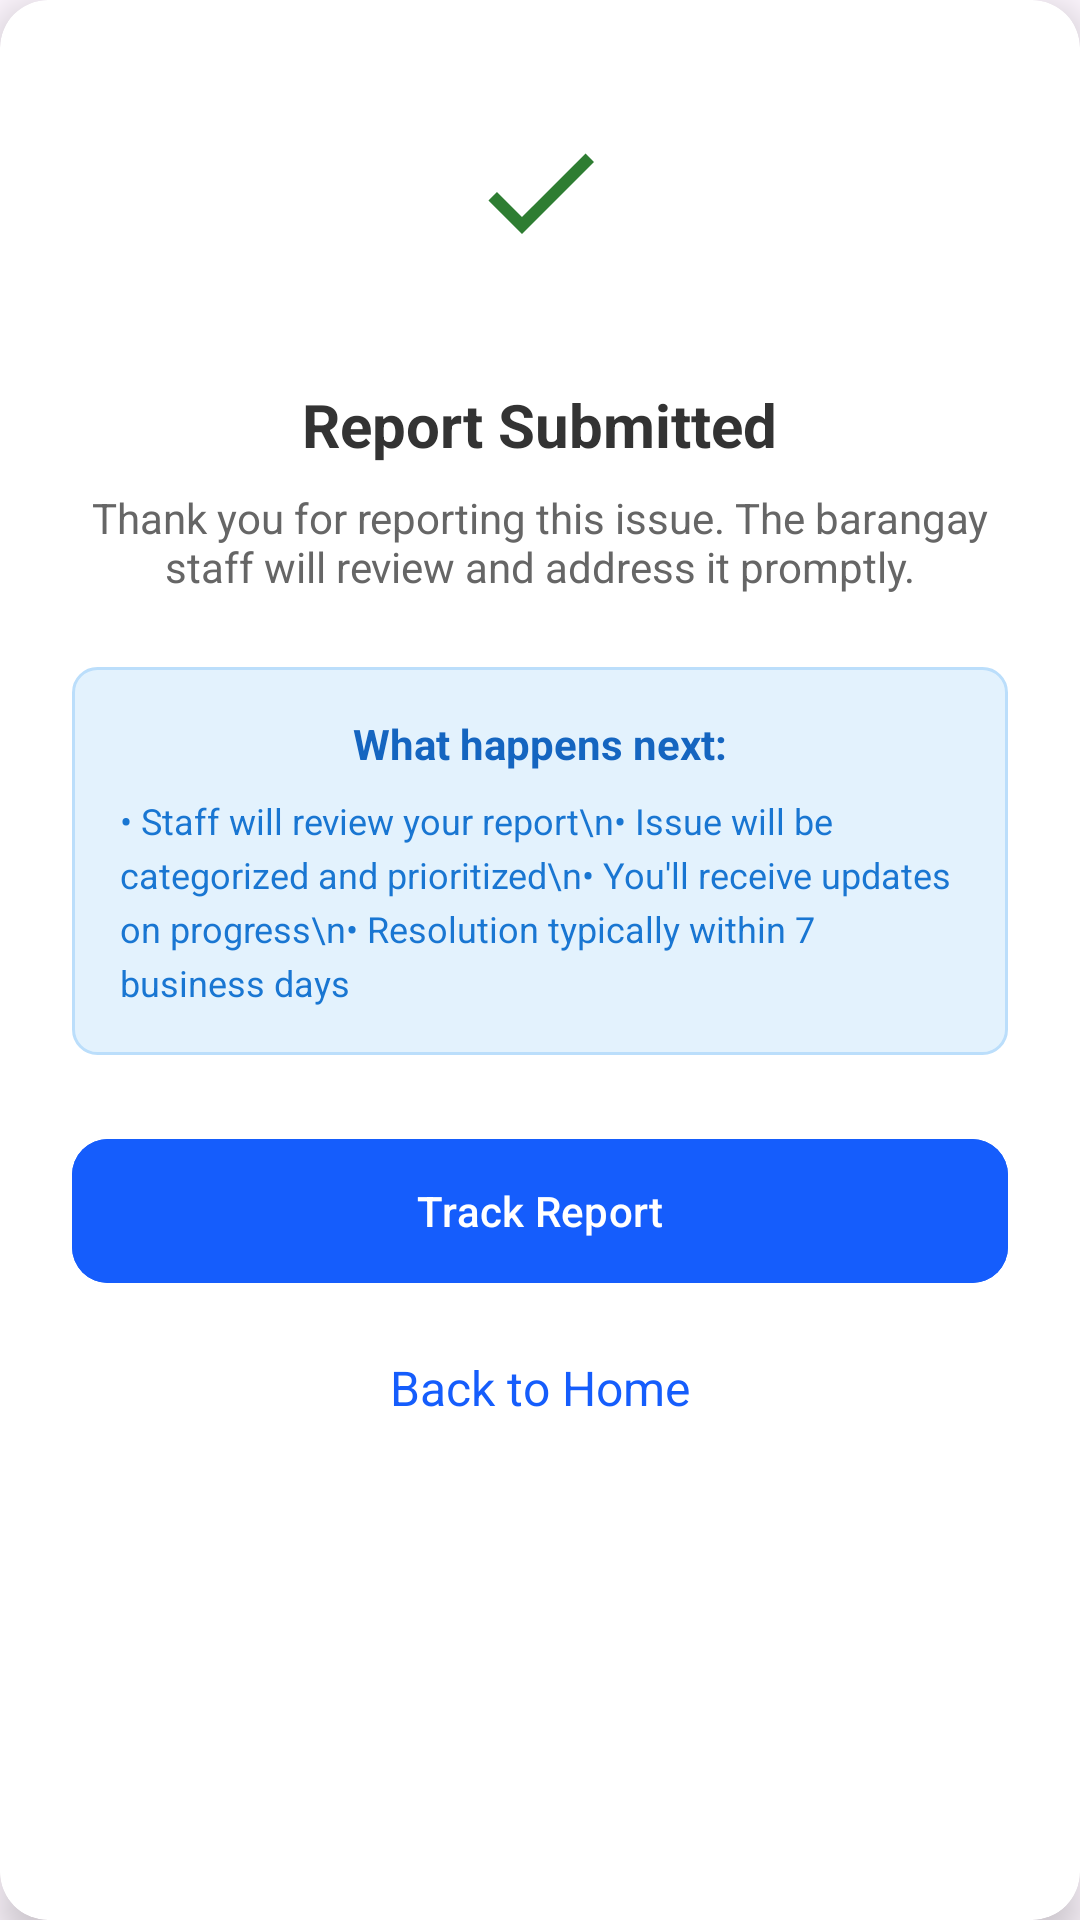

Point at icon controls on the screen. Image size 1080px×1920px, points as (x,y).
check: (541,193)
